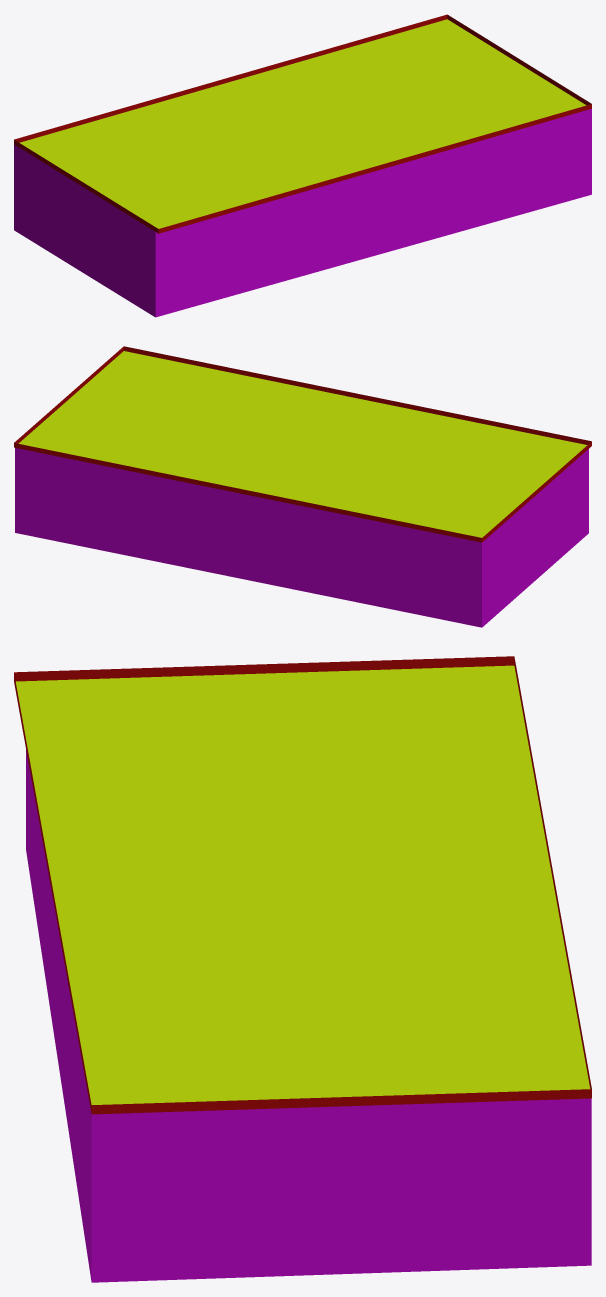
File: ces_72.glb
3 views of the same model, one above another, from view 1: azimuth 30°, elevation 25°; view 2: azimuth 150°, elevation 25°; view 3: azimuth 270°, elevation 25° (orthographic). The views are drawn at different scales.
Parts seen in each view (by area): view 1: ces_72; view 2: ces_72; view 3: ces_72.
Boxes of the visible parts, x1,y1,x2,y2 form: ces_72: (14, 14, 591, 317); ces_72: (14, 346, 591, 627); ces_72: (14, 656, 591, 1282).
Size of the model in its own units: 36.23 by 6.68 by 19.72.
